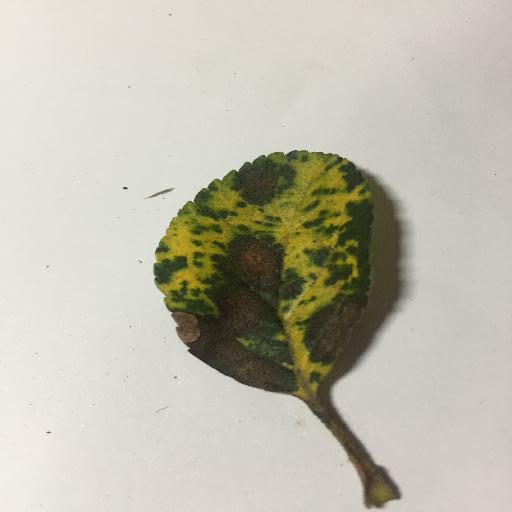Brown_Spot: (154, 240, 367, 389), (235, 163, 291, 198)
